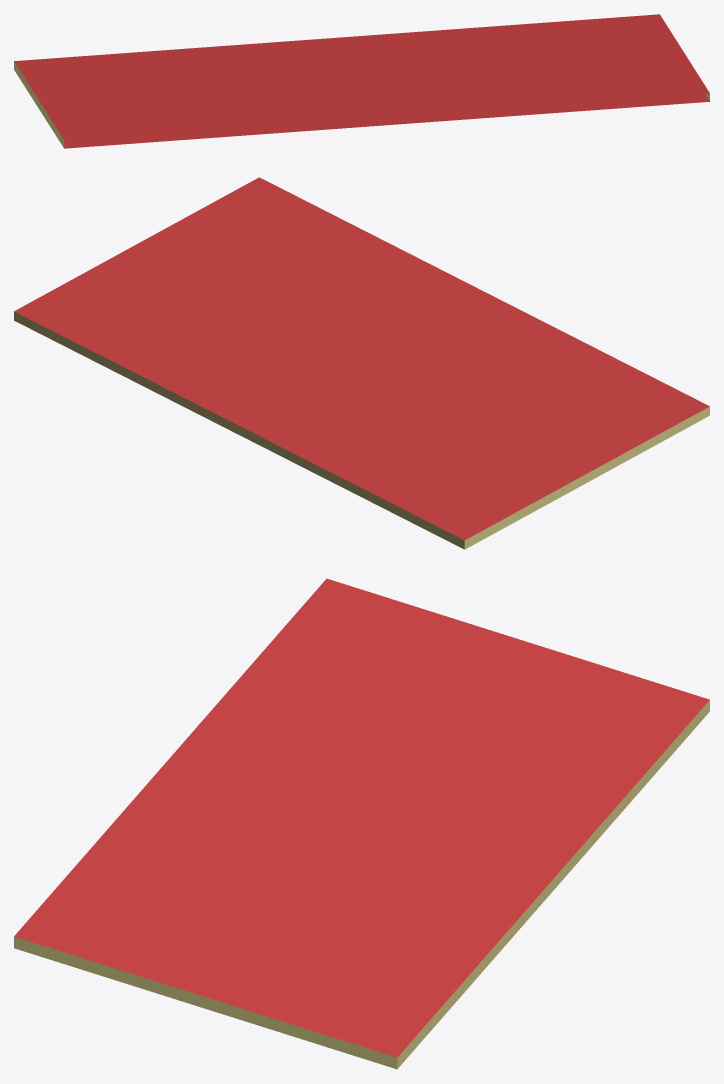
The picture shows the model from 3 angles, top to bottom: view 1: azimuth 30°, elevation 25°; view 2: azimuth 150°, elevation 25°; view 3: azimuth 270°, elevation 25°; orthographic projection. The views are drawn at different scales.
Bounding box in the file's own units: 7.57 × 5.33 × 0.619.
